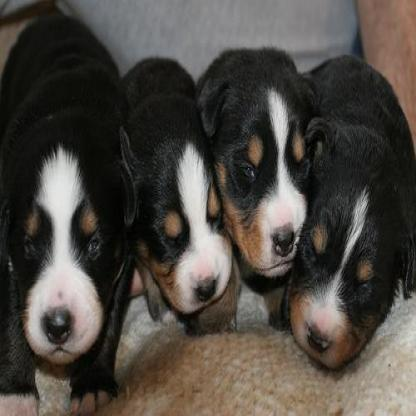Appenzeller: (1, 4, 132, 413), (287, 52, 414, 372), (116, 47, 234, 330), (196, 43, 306, 277)
